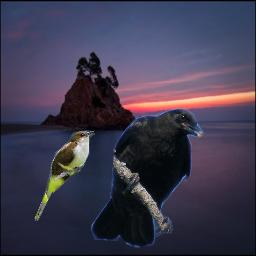Crow: (91, 108, 204, 248)
Cuckoo: (34, 130, 95, 221)
